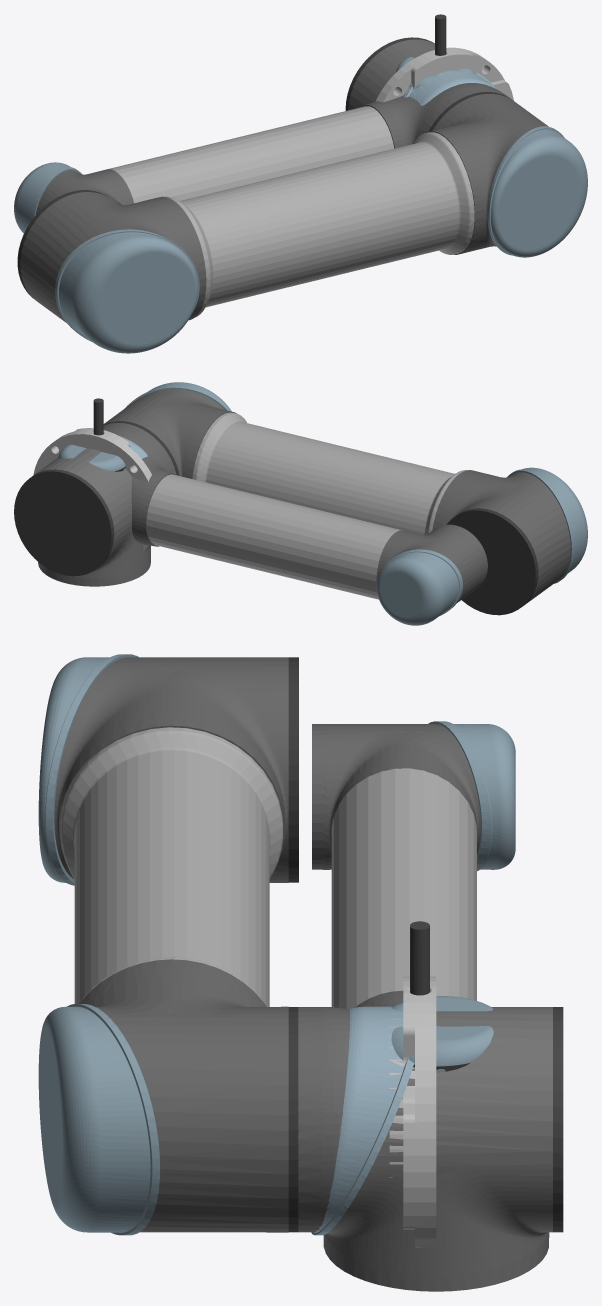
The picture shows the model from 3 angles, top to bottom: view 1: azimuth 30°, elevation 25°; view 2: azimuth 150°, elevation 25°; view 3: azimuth 270°, elevation 25°; orthographic projection. The views are drawn at different scales.
Visible parts, largest first — view 1: upperarm, forearm, shoulder, base; view 2: upperarm, forearm, shoulder, base, wrist1; view 3: upperarm, forearm, shoulder, base, wrist1.
Boxes of the visible parts, left/top/right/bottom form: upperarm: left=17, top=92, right=587, bottom=353; forearm: left=14, top=83, right=511, bottom=233; shoulder: left=345, top=37, right=499, bottom=110; base: left=375, top=14, right=513, bottom=102; upperarm: left=103, top=382, right=587, bottom=615; forearm: left=103, top=423, right=487, bottom=625; shoulder: left=14, top=436, right=150, bottom=586; base: left=33, top=398, right=151, bottom=551; wrist1: left=58, top=444, right=125, bottom=471; upperarm: left=38, top=654, right=298, bottom=1235; forearm: left=298, top=721, right=515, bottom=1232; shoulder: left=311, top=1006, right=563, bottom=1291; base: left=389, top=921, right=436, bottom=1248; wrist1: left=391, top=996, right=493, bottom=1072.
Bounding box in the file's own units: 0.5579 × 0.1834 × 0.2696.
Materials: 6 (6 with a texture image).
